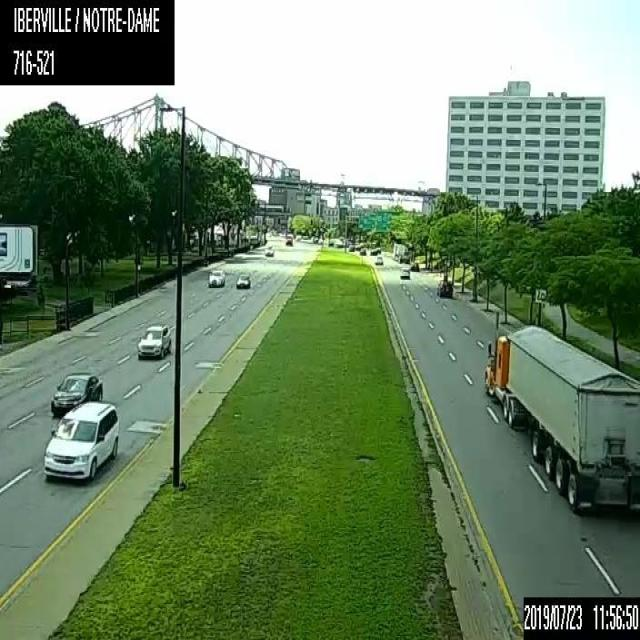vehicle: (484, 324, 639, 512), (44, 402, 118, 480), (50, 372, 102, 416), (137, 323, 170, 359), (392, 241, 411, 262), (207, 267, 226, 287), (435, 279, 454, 297), (235, 272, 250, 289), (264, 243, 274, 256), (399, 266, 409, 277), (374, 253, 383, 264), (285, 233, 293, 245), (409, 261, 418, 271), (359, 247, 366, 254), (369, 247, 376, 254)
